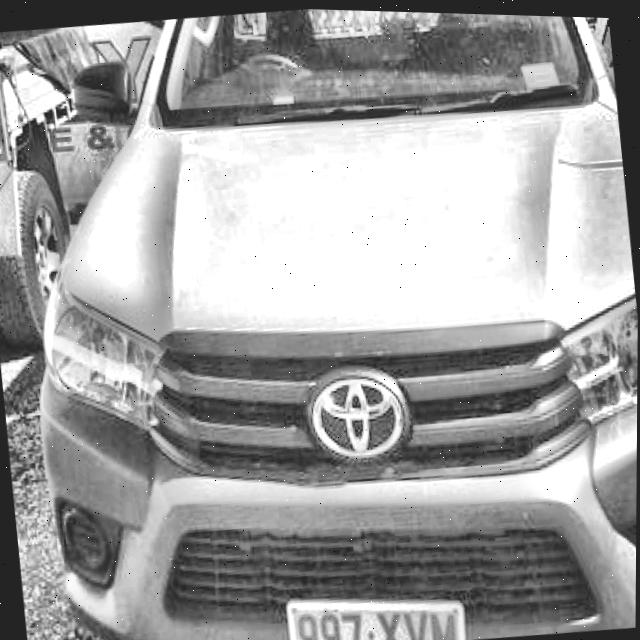light_vehicle: (6, 0, 640, 640)
